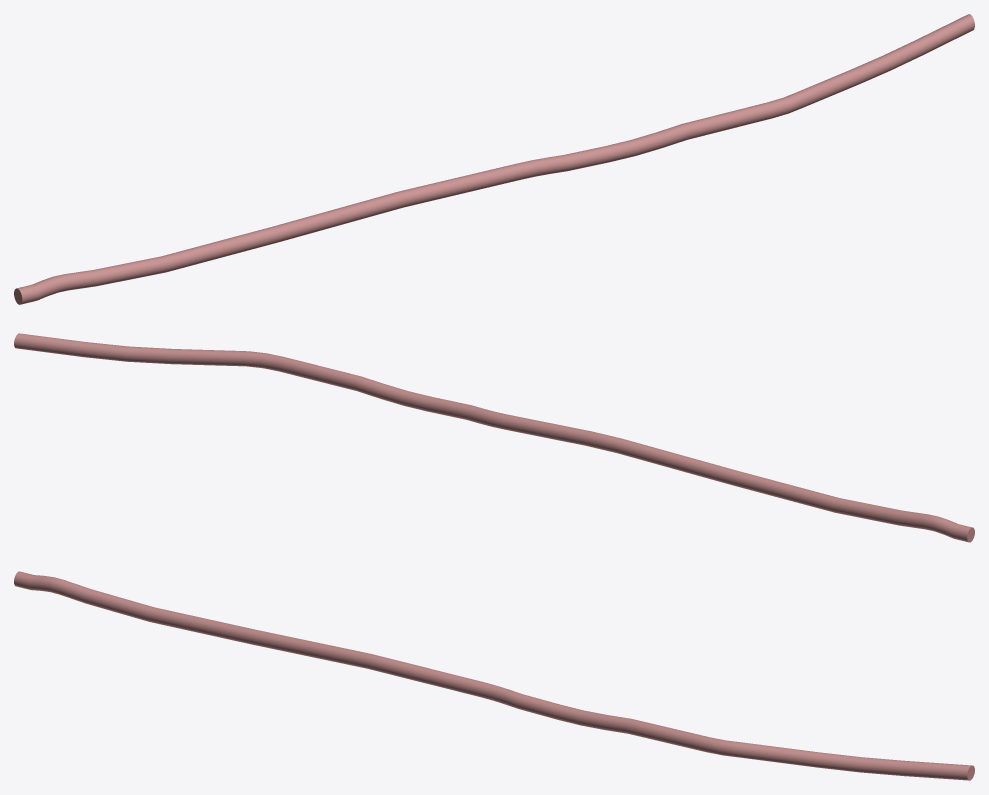
Rendered from Pipe_Big_R.fbx.
3 views of the same model, one above another, from view 1: azimuth 30°, elevation 25°; view 2: azimuth 150°, elevation 25°; view 3: azimuth 330°, elevation 25° (orthographic). The views are drawn at different scales.
Visible parts, largest first — view 1: Pipe_Big_R; view 2: Pipe_Big_R; view 3: Pipe_Big_R.
Boxes of the visible parts, box(x1,y1,x2,y2) form: Pipe_Big_R: box(14, 14, 974, 304); Pipe_Big_R: box(14, 333, 974, 542); Pipe_Big_R: box(14, 571, 974, 780).
Size of the model in its own units: 2315 by 49.47 by 207.
